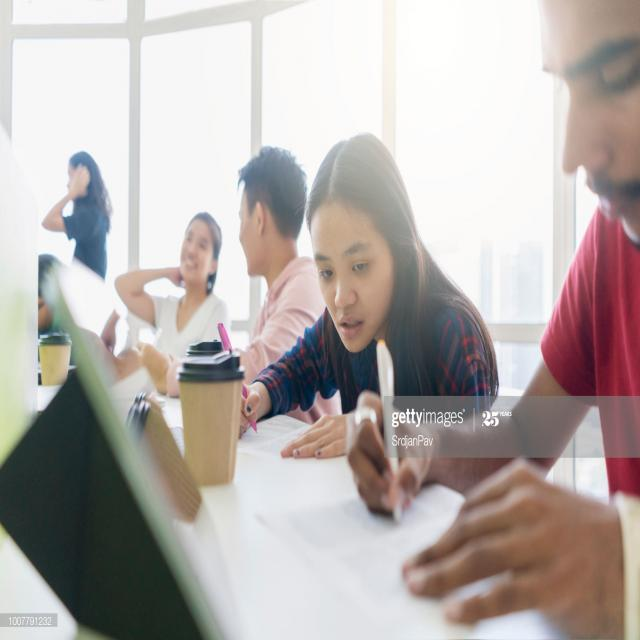cheating: (297, 115, 439, 390)
